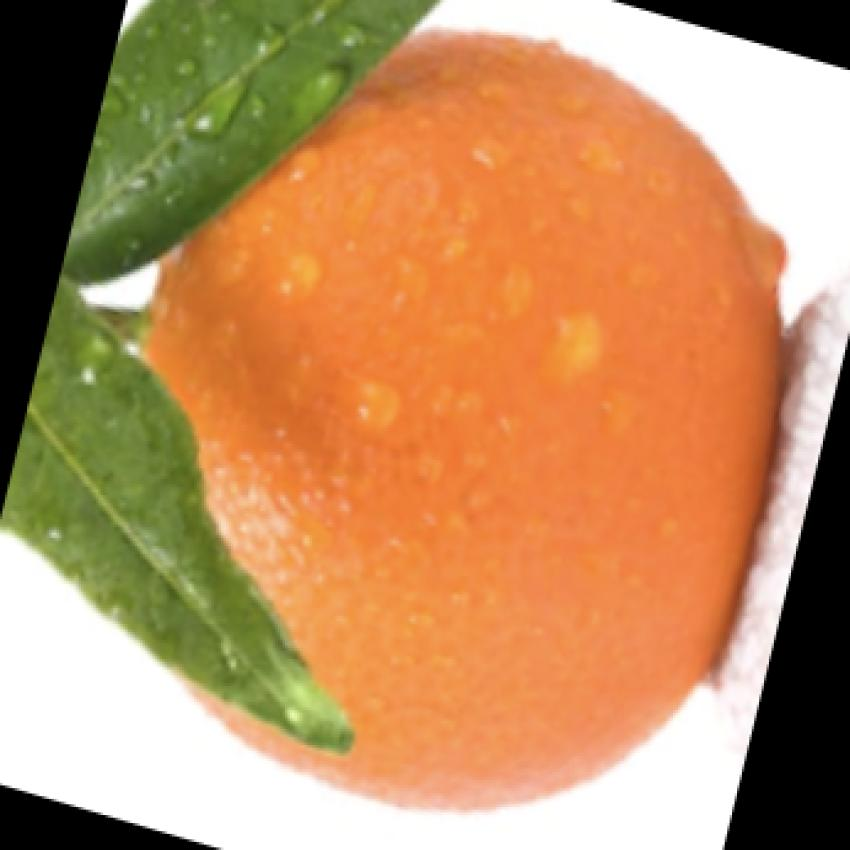Buen estado: (102, 4, 813, 816)
